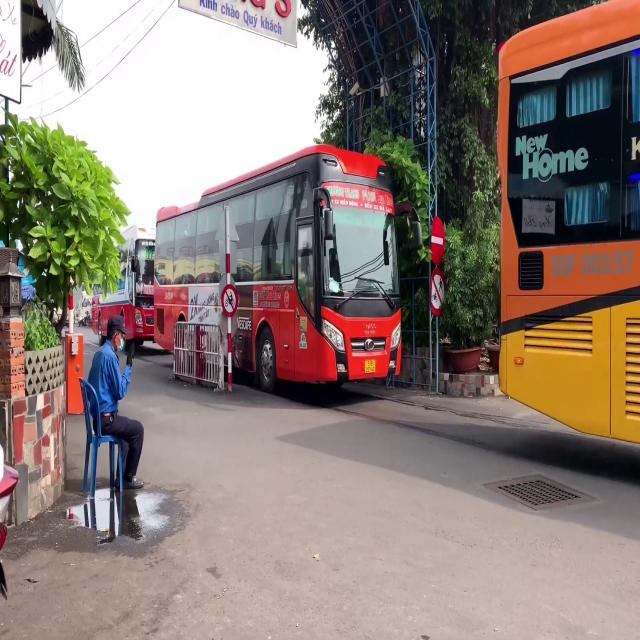bien_vang: (364, 360, 376, 373)
